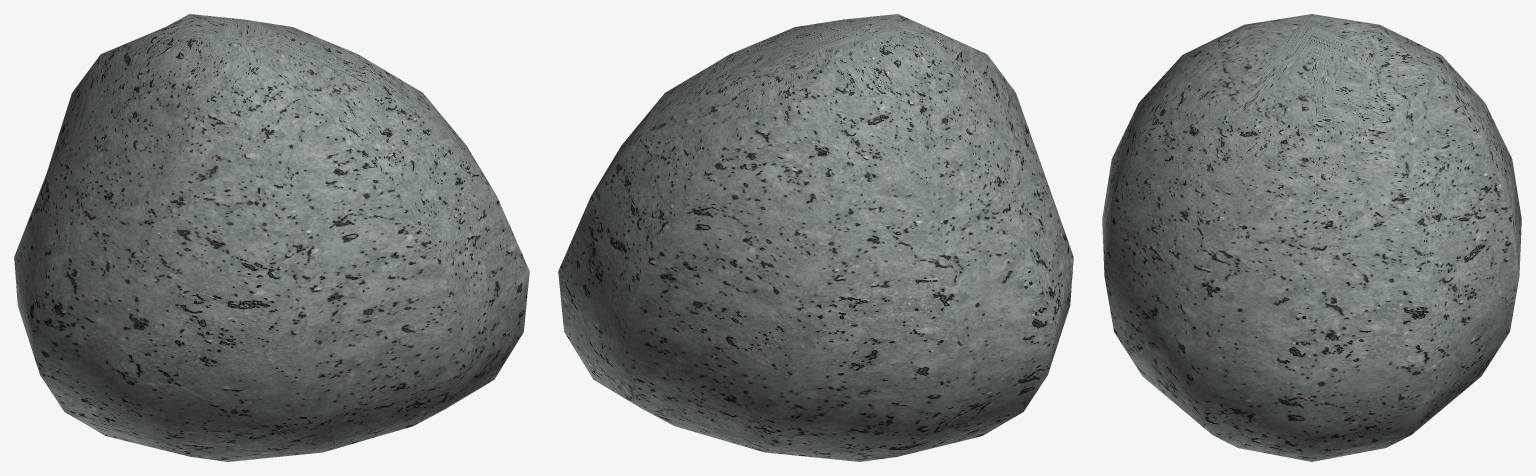
Rendered from rock3fbx.fbx.
The picture shows the model from 3 angles, left to right: view 1: azimuth 30°, elevation 25°; view 2: azimuth 150°, elevation 25°; view 3: azimuth 270°, elevation 25°; orthographic projection. The views are drawn at different scales.
Parts seen in each view (by area): view 1: rock_3; view 2: rock_3; view 3: rock_3.
Boxes of the visible parts, x1=… form: rock_3: x1=14, y1=14, x2=529, y2=461; rock_3: x1=558, y1=14, x2=1073, y2=461; rock_3: x1=1102, y1=14, x2=1521, y2=461.
Size of the model in its own units: 3.75 by 3.09 by 3.26.
